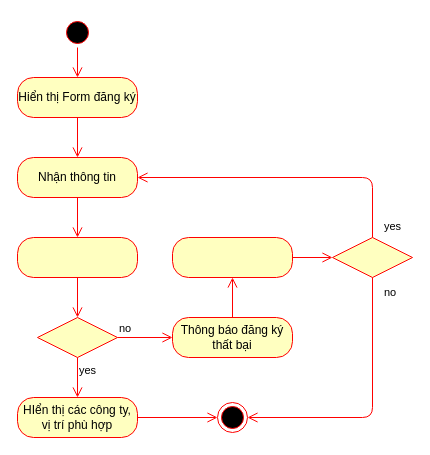
Some shapes in this 430 by 455 pixel diagram are drawn without their labels. Each missing label, with the centre of its shape:
"Chỉnh sửa thông tin" belongs at [232,257].
"Kiểm tra thông tin" belongs at [77,257].
